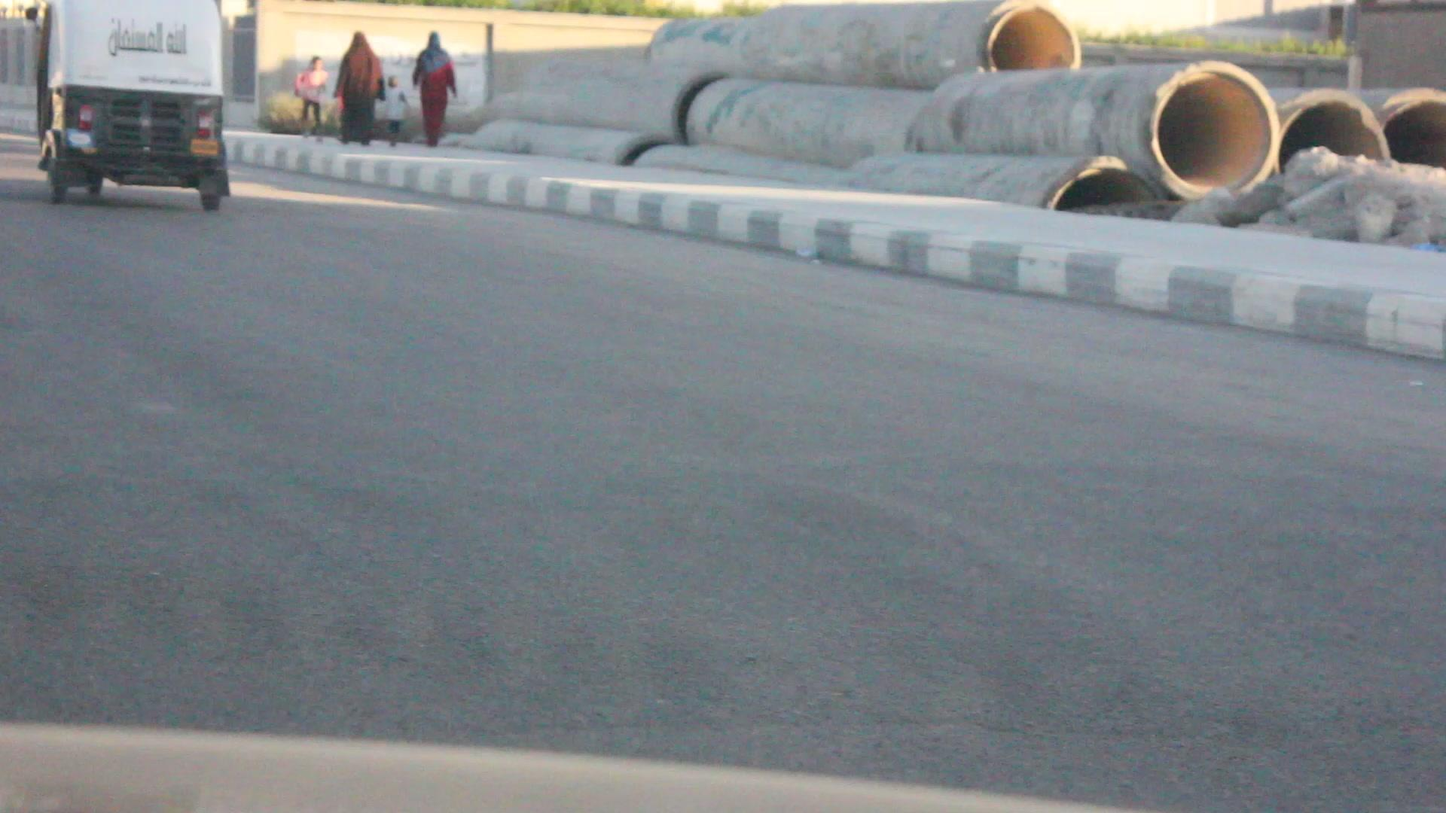Bump: (0, 363, 1440, 738)
